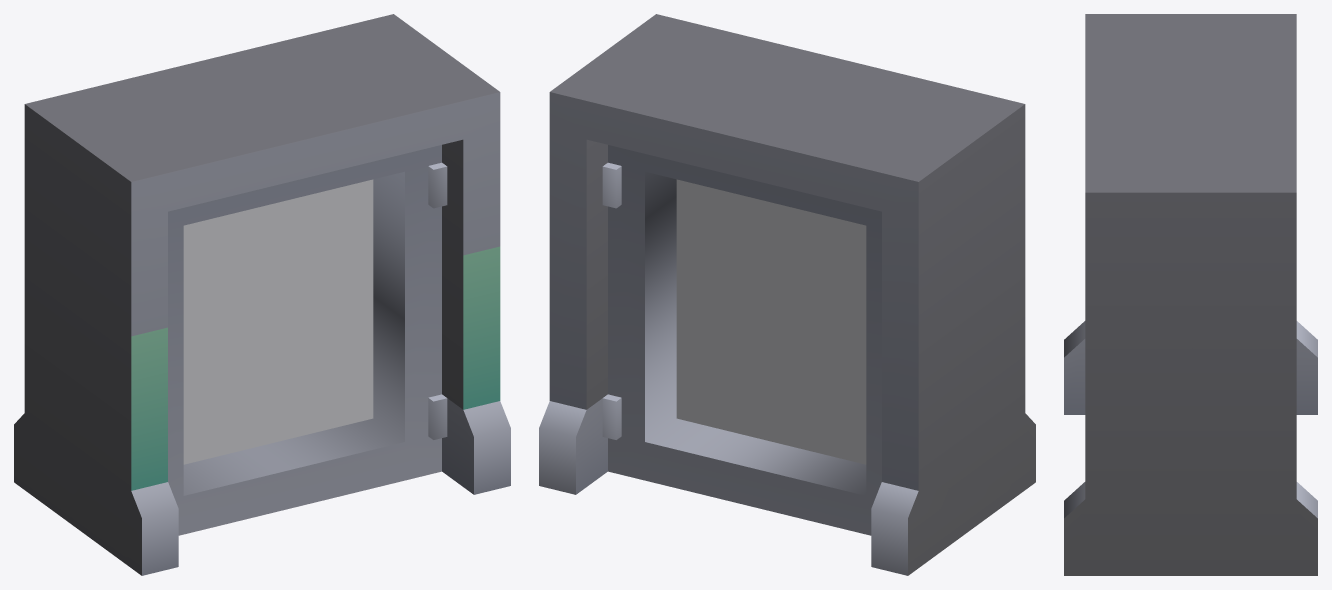
File: wall-window.glb
3 renders of one model, left to right at view 1: azimuth 30°, elevation 25°; view 2: azimuth 150°, elevation 25°; view 3: azimuth 270°, elevation 25°, orthographic.
Parts seen in each view (by area): view 1: wall-window; view 2: wall-window; view 3: wall-window.
Part boxes in pixels (left/top/right/bottom): wall-window: left=14, top=14, right=510, bottom=575; wall-window: left=539, top=14, right=1035, bottom=575; wall-window: left=1064, top=14, right=1317, bottom=575.
Bounding box in the file's own units: 1 × 1 × 0.6.
